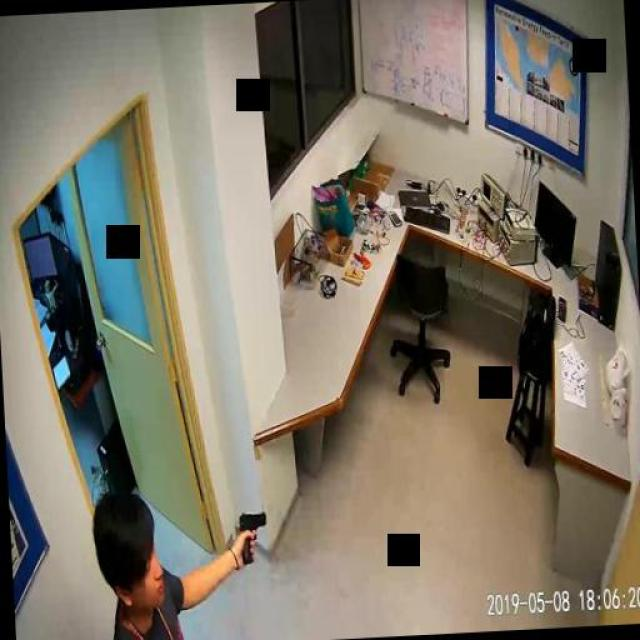gun: (236, 508, 266, 564)
